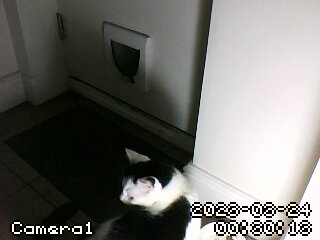bad: (103, 147, 201, 240)
